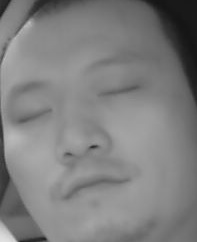blink: (96, 83, 139, 101), (16, 107, 52, 125)
mouth: (58, 172, 130, 202)
